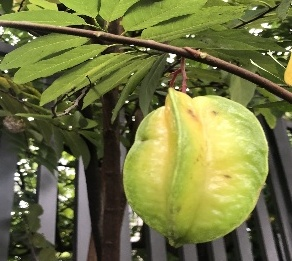Khe: (120, 85, 270, 245)
